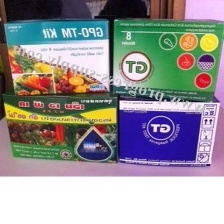book: (0, 81, 120, 167), (109, 14, 223, 104), (114, 80, 221, 171), (1, 14, 112, 98)
